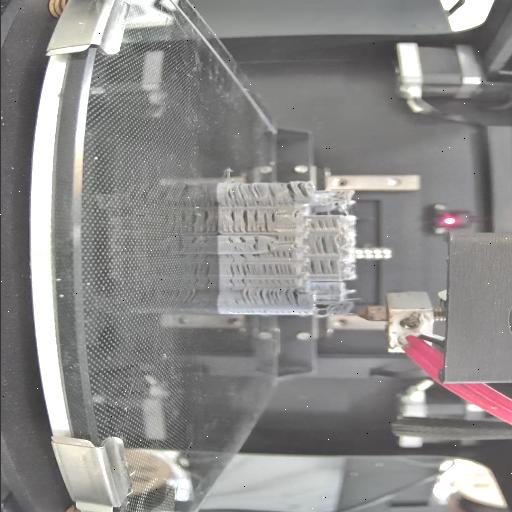cracks: (224, 184, 276, 208), (242, 288, 302, 306), (218, 210, 258, 232), (308, 235, 338, 255), (284, 181, 310, 204), (227, 264, 253, 286), (308, 216, 338, 232), (308, 260, 336, 276), (260, 264, 292, 276), (222, 254, 260, 264), (262, 214, 277, 232), (224, 236, 246, 246), (249, 238, 260, 252), (268, 252, 292, 258), (276, 236, 298, 242), (265, 242, 273, 252)
